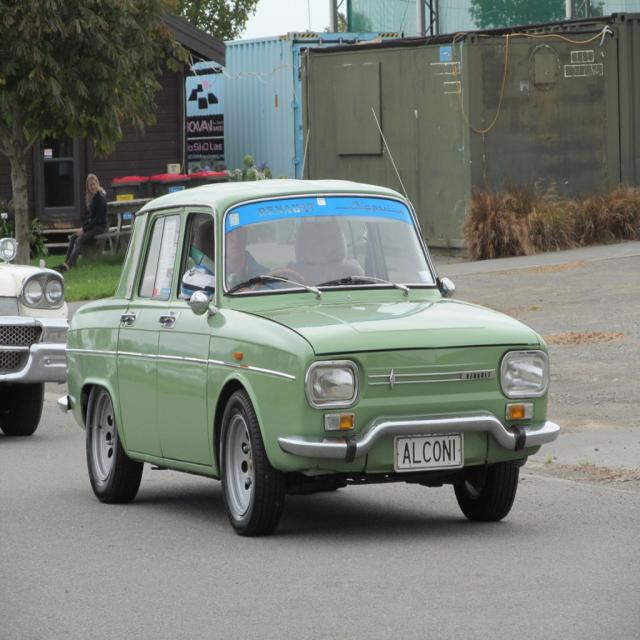car: (54, 170, 564, 538)
